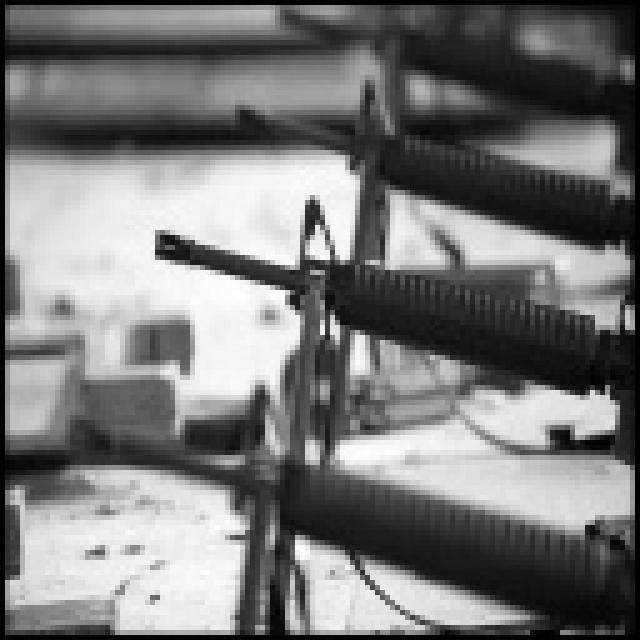Rifle: (72, 399, 640, 640), (155, 176, 640, 404), (239, 61, 522, 186)
